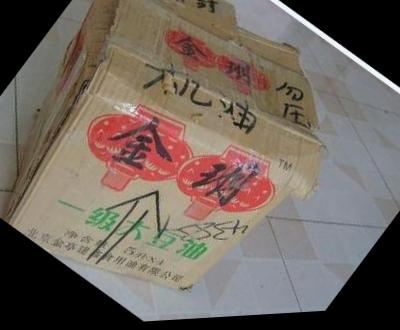cardboard: (0, 0, 341, 323)
